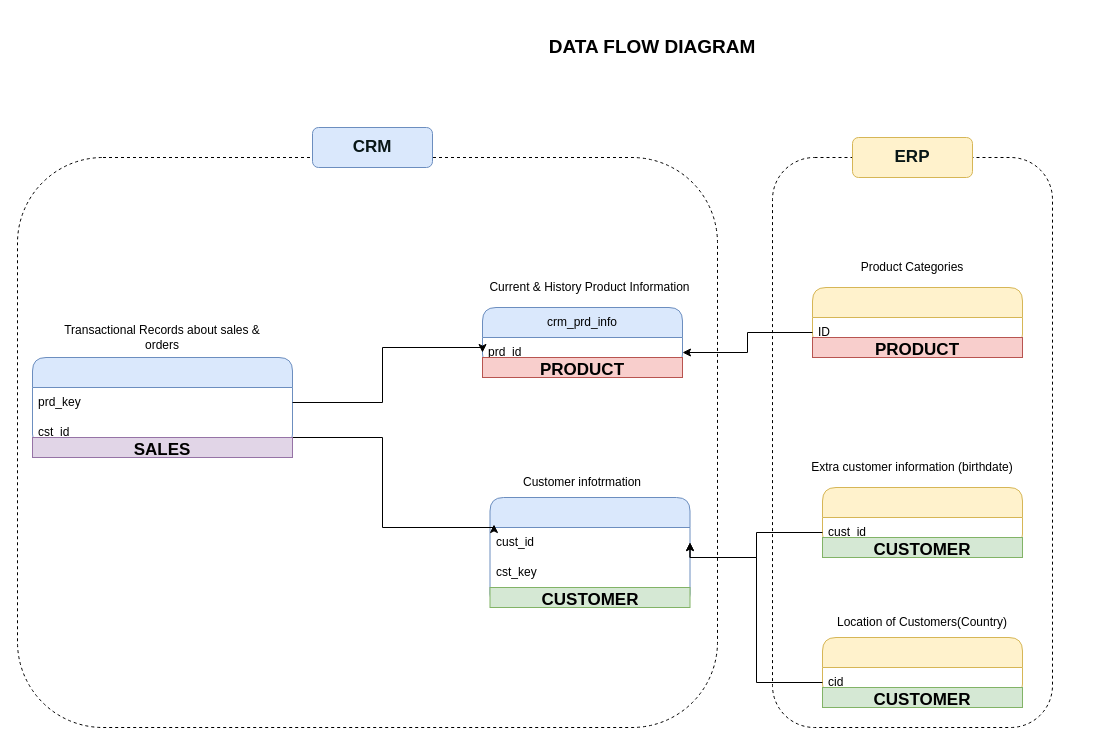
Image size: 1100x745. Some labels were removed from this diagram. The box of each missing label's shape, as (x1, y1, x2, y2) in pixels:
crm_cust_info: (489, 496, 690, 608)
crm_sales_details: (32, 356, 292, 448)
erp_cust_az12: (822, 486, 1022, 548)
erp_loc_101: (822, 636, 1022, 698)
erp_px_cat_g1v2: (812, 286, 1022, 348)
